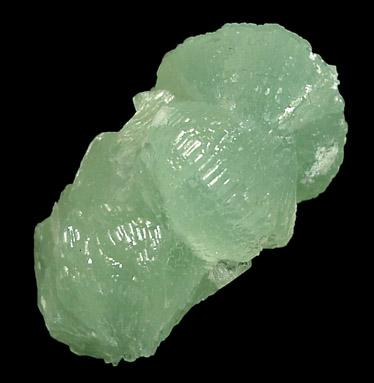prehnite: (32, 23, 349, 368)
